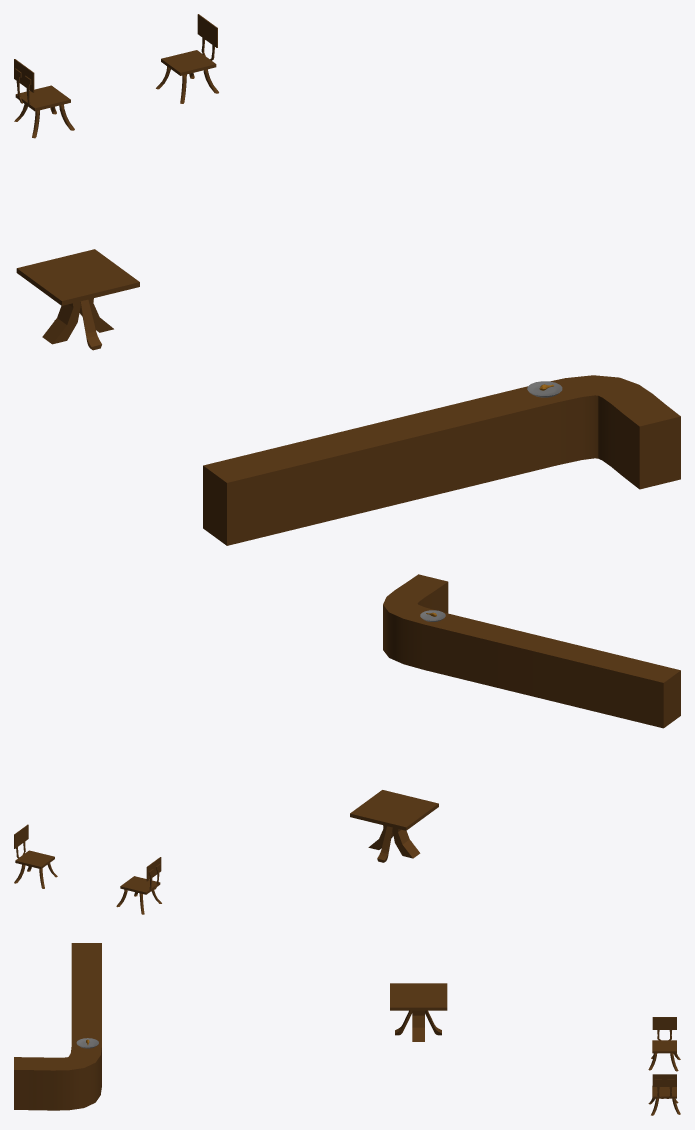
The model's file is Table_PlaceHolder.glb.
3 views of the same model, one above another, from view 1: azimuth 30°, elevation 25°; view 2: azimuth 150°, elevation 25°; view 3: azimuth 270°, elevation 25° (orthographic). The views are drawn at different scales.
Visible parts, largest first — view 1: Bunker, Table, Chair, Chair.001; view 2: Bunker, Table, Chair, Chair.001; view 3: Bunker, Table, Chair.001, Chair.
Part boxes in pixels (x1,y1,x2,y2): Bunker: [203, 375, 680, 545]; Table: [16, 249, 139, 350]; Chair: [156, 14, 218, 103]; Chair.001: [14, 59, 74, 138]; Bunker: [383, 574, 680, 728]; Table: [350, 790, 438, 862]; Chair: [14, 824, 57, 888]; Chair.001: [116, 857, 161, 914]; Bunker: [14, 943, 101, 1110]; Table: [390, 983, 447, 1041]; Chair.001: [648, 1017, 680, 1071]; Chair: [648, 1074, 680, 1115].
Bounding box in the file's own units: 25.32 × 5.09 × 51.24.
